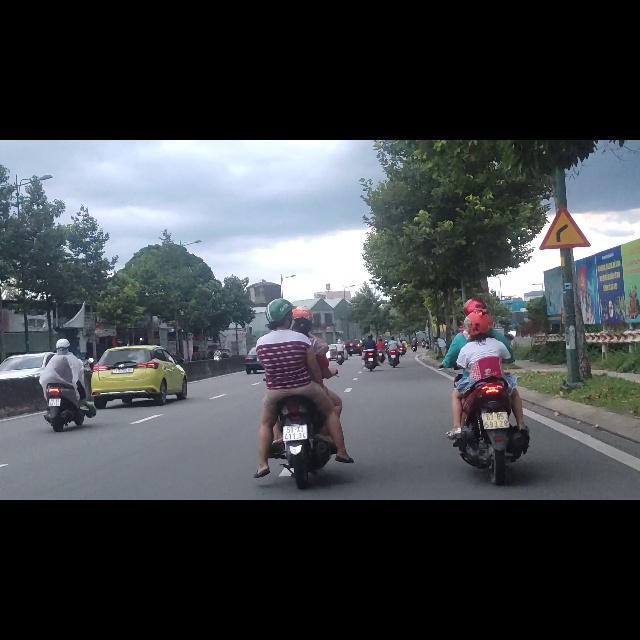bien_nguy_hiem: (537, 114, 592, 196)
